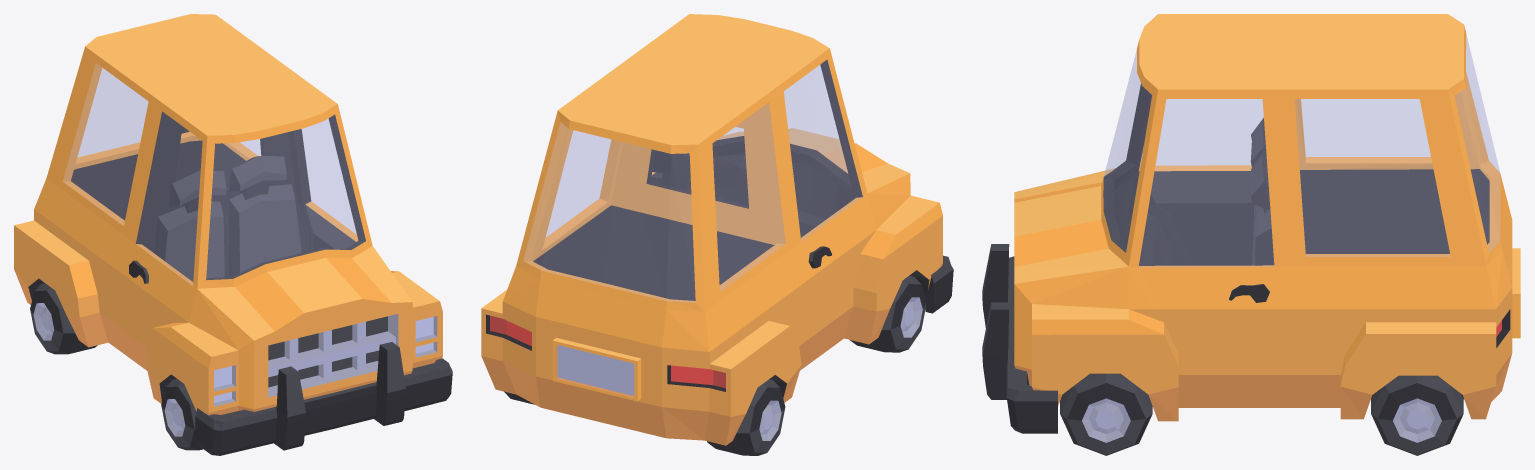
File: vivid-orange-compact-cruiser.glb
3 renders of one model, left to right at view 1: azimuth 30°, elevation 25°; view 2: azimuth 150°, elevation 25°; view 3: azimuth 270°, elevation 25°, orthographic. The views are drawn at different scales.
Parts seen in each view (by area): view 1: Car02_2, Car02_2_AdB, Car02_2_AdF, Car02_2_DR, Car02_2_DL, Car02_2_WhBR, Car02_2_WhFR; view 2: Car02_2, Car02_2_AdB, Car02_2_DR, Car02_2_WhBR, Car02_2_WhFR, Car02_2_AdF; view 3: Car02_2, Car02_2_AdB, Car02_2_DL, Car02_2_DR, Car02_2_AdF, Car02_2_WhBL, Car02_2_WhFL.
Part boxes in pixels (x1,y1,x2,y2): Car02_2: [14, 65, 442, 415]; Car02_2_AdB: [46, 14, 284, 236]; Car02_2_AdF: [195, 342, 452, 455]; Car02_2_DR: [127, 112, 202, 356]; Car02_2_DL: [302, 119, 358, 249]; Car02_2_WhBR: [30, 283, 97, 354]; Car02_2_WhFR: [161, 379, 202, 450]; Car02_2: [481, 14, 942, 445]; Car02_2_AdB: [516, 56, 790, 312]; Car02_2_DR: [784, 60, 863, 350]; Car02_2_WhBR: [707, 379, 785, 455]; Car02_2_WhFR: [850, 275, 926, 352]; Car02_2_AdF: [925, 255, 953, 313]; Car02_2: [1014, 14, 1520, 421]; Car02_2_AdB: [1284, 14, 1502, 266]; Car02_2_DL: [1138, 99, 1274, 388]; Car02_2_DR: [1139, 99, 1263, 265]; Car02_2_AdF: [982, 244, 1057, 433]; Car02_2_WhBL: [1371, 375, 1463, 455]; Car02_2_WhFL: [1060, 373, 1152, 455].
Bounding box in the file's own units: 2.93 × 3.37 × 4.81.
3 materials, 3 textured.
